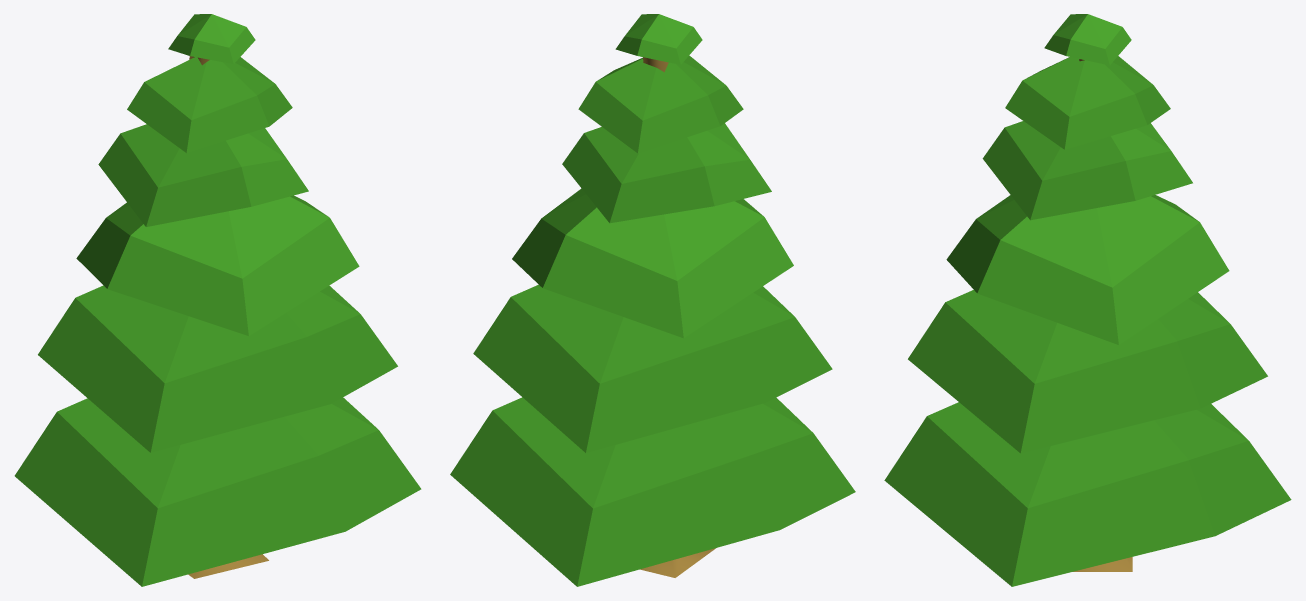
Rendered from Tree 2.fbx.
3 renders of one model, left to right at view 1: azimuth 30°, elevation 25°; view 2: azimuth 150°, elevation 25°; view 3: azimuth 270°, elevation 25°, orthographic.
Visible parts, largest first — view 1: Cube; view 2: Cube; view 3: Cube.
Boxes of the visible parts, box(x1,y1,x2,y2) form: Cube: box(14, 14, 421, 586); Cube: box(450, 14, 855, 586); Cube: box(884, 14, 1291, 586).
Bounding box in the file's own units: 9.56 × 10.18 × 14.9.
